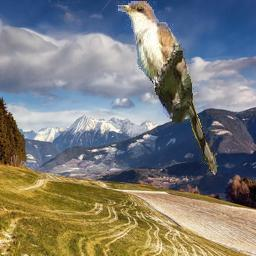Cuckoo: (117, 1, 218, 175)
